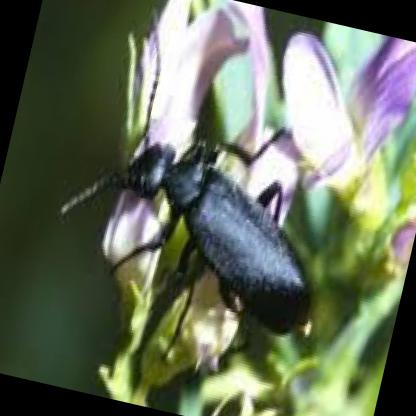blister beetle: (61, 15, 315, 342)
